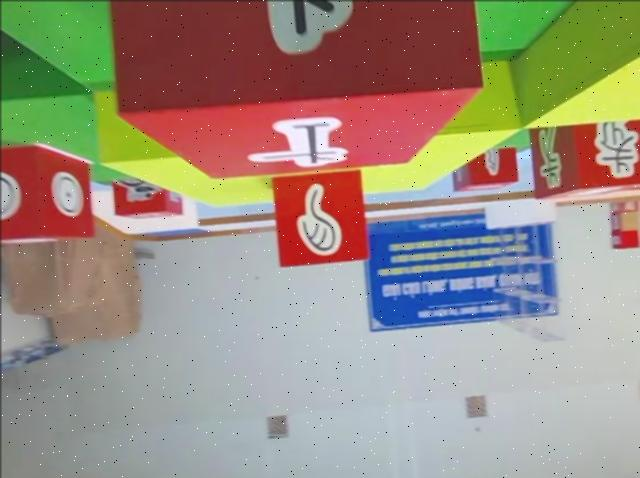R1: (111, 169, 183, 219)
R2 Fake: (526, 109, 640, 203), (270, 167, 372, 270)
R2 Real: (102, 0, 484, 183), (0, 143, 95, 248)
